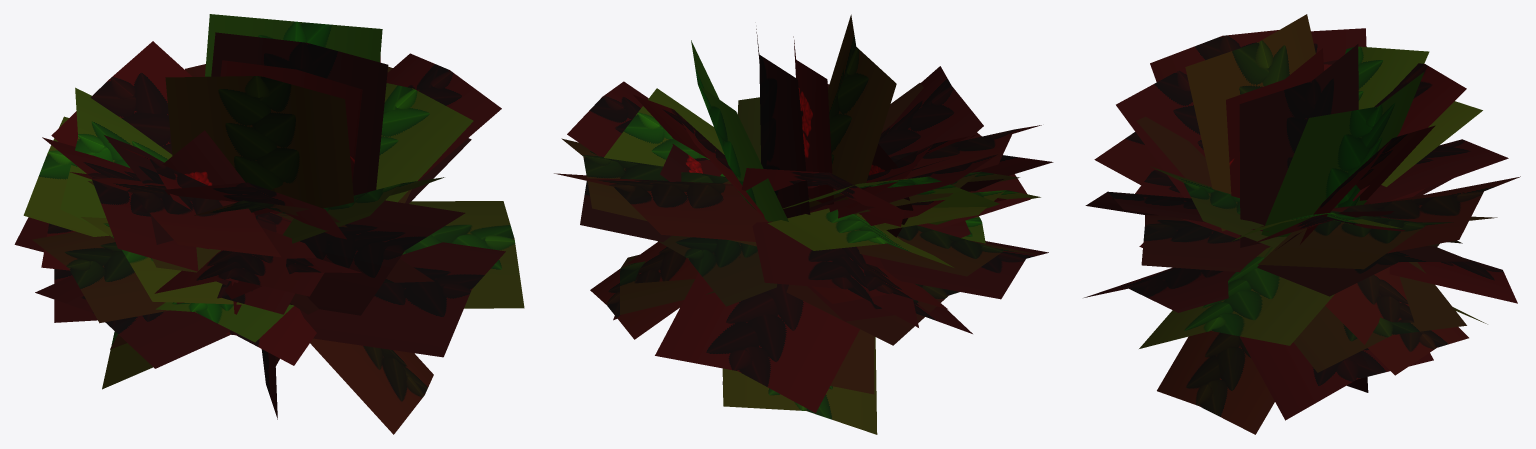
File: veg_bush1_far.glb
3 renders of one model, left to right at view 1: azimuth 30°, elevation 25°; view 2: azimuth 150°, elevation 25°; view 3: azimuth 270°, elevation 25°, orthographic. The views are drawn at different scales.
Parts seen in each view (by area): view 1: bush_1; view 2: bush_1; view 3: bush_1.
Part boxes in pixels (left/top/right/bottom): bush_1: left=14, top=14, right=524, bottom=434; bush_1: left=554, top=14, right=1053, bottom=434; bush_1: left=1084, top=14, right=1520, bottom=434.
Size of the model in its own units: 2.77 by 2.06 by 2.53.
1 material, 1 textured.
